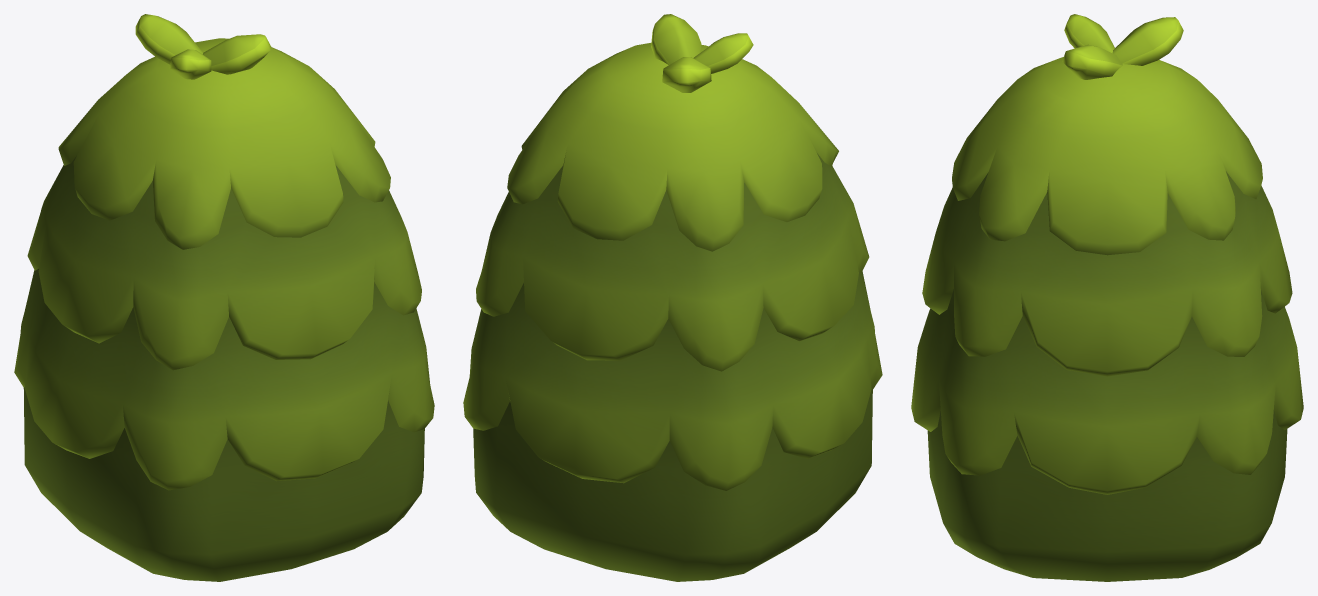
Rendered from bush4_LOD_setup.fbx.
The picture shows the model from 3 angles, left to right: view 1: azimuth 30°, elevation 25°; view 2: azimuth 150°, elevation 25°; view 3: azimuth 270°, elevation 25°; orthographic projection.
Visible parts, largest first — view 1: bush4_LOD0; view 2: bush4_LOD0; view 3: bush4_LOD0.
Part boxes in pixels (x1,y1,x2,y2): bush4_LOD0: (14, 14, 434, 581); bush4_LOD0: (463, 14, 882, 581); bush4_LOD0: (911, 14, 1303, 581).
Size of what is drawn, in the model's own units: 119 by 163 by 119.
